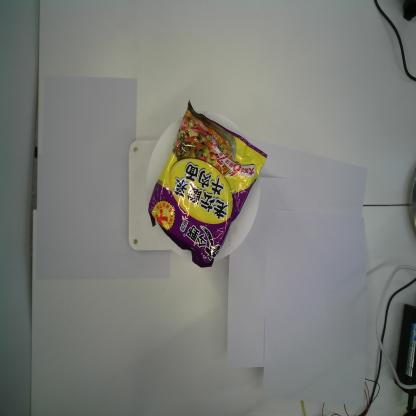Instant Noodles: (147, 100, 269, 268)
